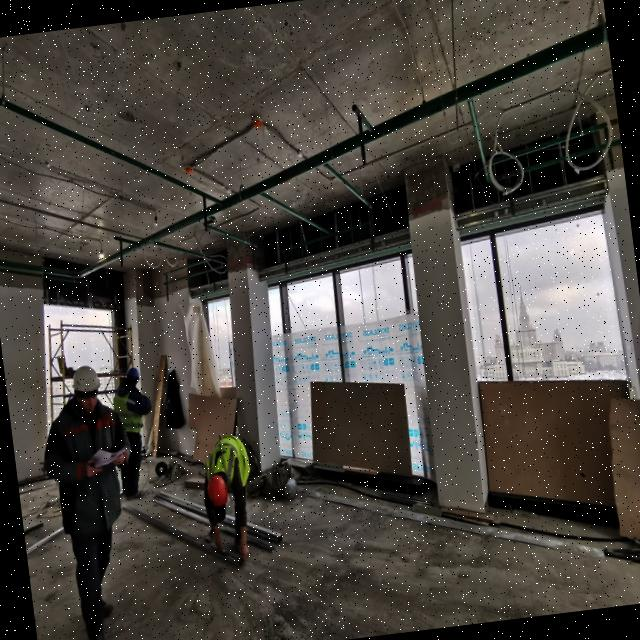Helmet: (70, 366, 105, 416), (203, 471, 233, 513), (124, 368, 144, 390)
